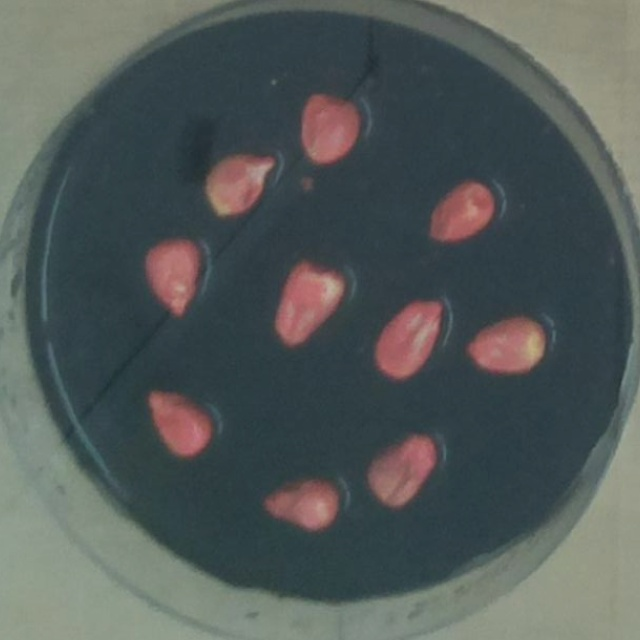Zea mays: (265, 249, 351, 352), (367, 293, 452, 386), (360, 427, 444, 514), (139, 380, 220, 465), (196, 145, 281, 223), (137, 230, 208, 322), (462, 308, 552, 378), (295, 85, 368, 170), (420, 172, 501, 248), (254, 467, 345, 534)
